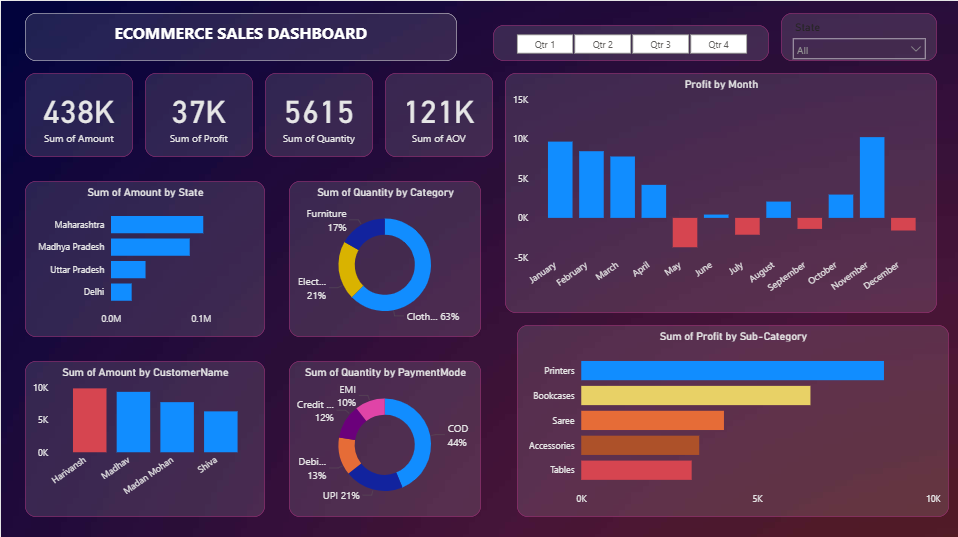

This screenshot's page, from the dashboard's own definition file:
{"tool":"powerbi","page":{"name":"Page 1","canvas":[1280,720],"ordinal":0},"visuals":[{"type":"textbox","box":[32,16,576,64],"z":0},{"type":"columnChart","title":"Profit by Month","fields":{"Category":["Orders.Order Date.Variation.Date Hierarchy.Month"],"Y":["Sum(Details.Profit)"]},"box":[672,96,576,320],"z":1000},{"type":"barChart","fields":{"Category":["Details.Sub-Category"],"Y":["Sum(Details.Profit)"]},"box":[672,432,576,256],"z":2000},{"type":"donutChart","fields":{"Category":["Details.Category"],"Y":["Sum(Details.Quantity)"]},"box":[384,240,256,208],"z":3000},{"type":"donutChart","fields":{"Y":["Sum(Details.Quantity)"],"Category":["Details.PaymentMode"]},"box":[384,480,256,208],"z":4000},{"type":"card","fields":{"Values":["Sum(Details.Amount)"]},"box":[32,96,144,112],"z":5000},{"type":"card","fields":{"Values":["Sum(Details.AOV)"]},"box":[512,96,144,112],"z":6000},{"type":"card","fields":{"Values":["Sum(Details.Quantity)"]},"box":[352,96,144,112],"z":7000},{"type":"card","fields":{"Values":["Sum(Details.Profit)"]},"box":[192,96,144,112],"z":8000},{"type":"barChart","fields":{"Category":["Orders.State"],"Y":["Sum(Details.Amount)"]},"box":[32,240,320,208],"z":9000},{"type":"columnChart","fields":{"Category":["Orders.CustomerName"],"Y":["Sum(Details.Amount)"]},"box":[32,480,320,208],"z":10000},{"type":"slicer","fields":{"Values":["Orders.Order Date.Variation.Date Hierarchy.Quarter"]},"box":[656,32,368,48],"z":11000},{"type":"slicer","fields":{"Values":["Orders.State"]},"box":[1040,16,208,64],"z":12000}]}

Visuals, with their boxes in screenshot pixels (x1, y1, x2, y2), scaled from the page's 1280x720 canvas onto the 958x537 screenshot:
textbox: <box>24,12,455,60</box>
"Profit by Month" columnChart: <box>503,72,934,310</box>
barChart - Details.Sub-Category x Sum(Details.Profit): <box>503,322,934,513</box>
donutChart - Details.Category x Sum(Details.Quantity): <box>287,179,479,334</box>
donutChart - Sum(Details.Quantity) x Details.PaymentMode: <box>287,358,479,513</box>
card - Sum(Details.Amount): <box>24,72,132,155</box>
card - Sum(Details.AOV): <box>383,72,491,155</box>
card - Sum(Details.Quantity): <box>263,72,371,155</box>
card - Sum(Details.Profit): <box>144,72,251,155</box>
barChart - Orders.State x Sum(Details.Amount): <box>24,179,263,334</box>
columnChart - Orders.CustomerName x Sum(Details.Amount): <box>24,358,263,513</box>
slicer - Orders.Order Date.Variation.Date Hierarchy.Quarter: <box>491,24,766,60</box>
slicer - Orders.State: <box>778,12,934,60</box>
